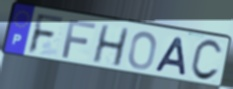A: (153, 36, 188, 78)
C: (188, 39, 224, 83)
F: (26, 12, 67, 56), (60, 19, 98, 60)
H: (90, 23, 131, 68)
O: (127, 30, 159, 71)
